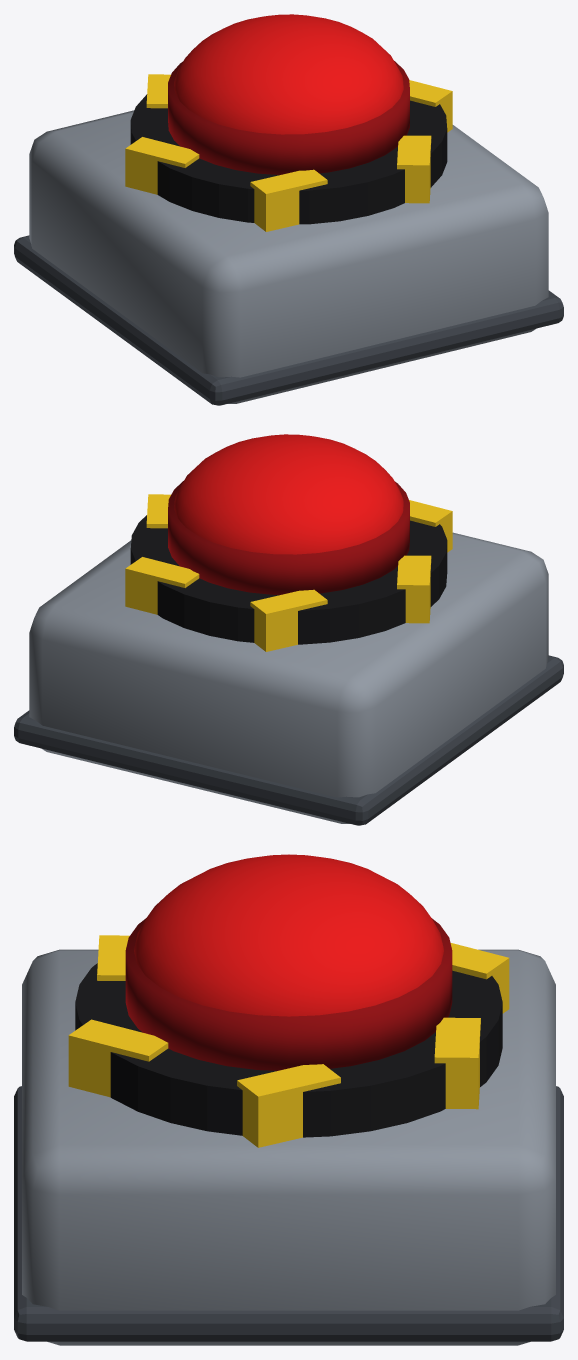
Rendered from emergency_button.obj.
3 views of the same model, one above another, from view 1: azimuth 30°, elevation 25°; view 2: azimuth 150°, elevation 25°; view 3: azimuth 270°, elevation 25° (orthographic). The views are drawn at different scales.
Size of the model in its own units: 0.175 by 0.13 by 0.175.
